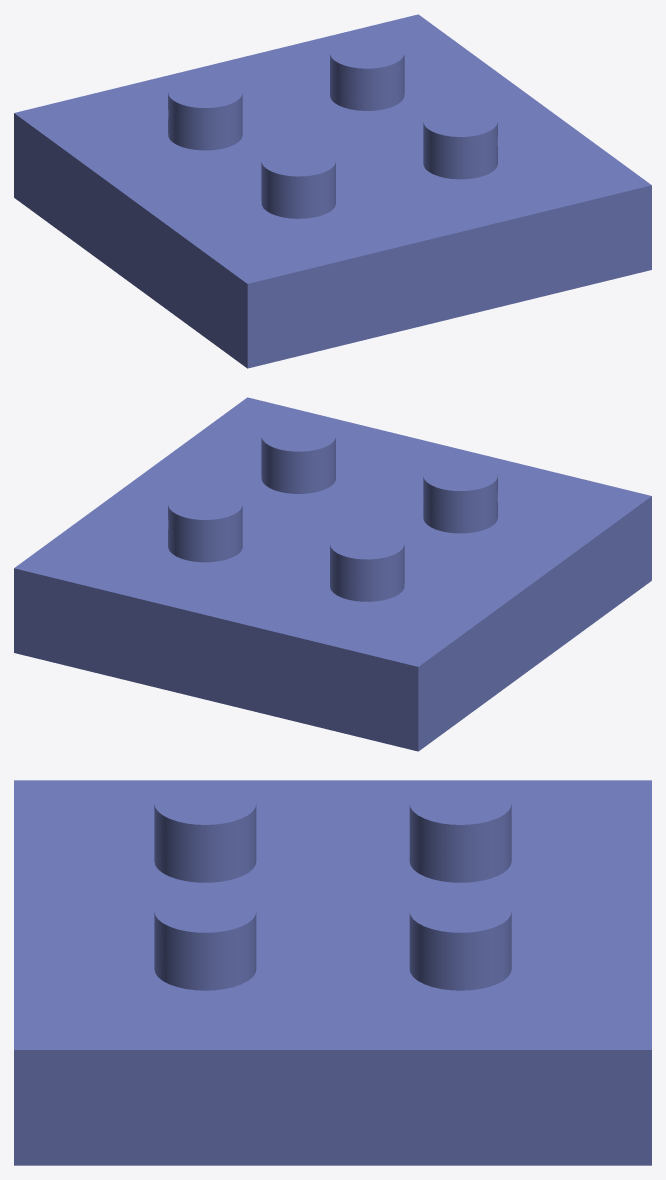
The model's file is Part_blue.glb.
3 views of the same model, one above another, from view 1: azimuth 30°, elevation 25°; view 2: azimuth 150°, elevation 25°; view 3: azimuth 270°, elevation 25° (orthographic). The views are drawn at different scales.
Parts seen in each view (by area): view 1: Body1; view 2: Body1; view 3: Body1.
Boxes of the visible parts, x1,y1,x2,y2 form: Body1: [14, 14, 651, 368]; Body1: [14, 397, 651, 751]; Body1: [14, 780, 651, 1165].
Bounding box in the file's own units: 0.05 × 0.015 × 0.05.
